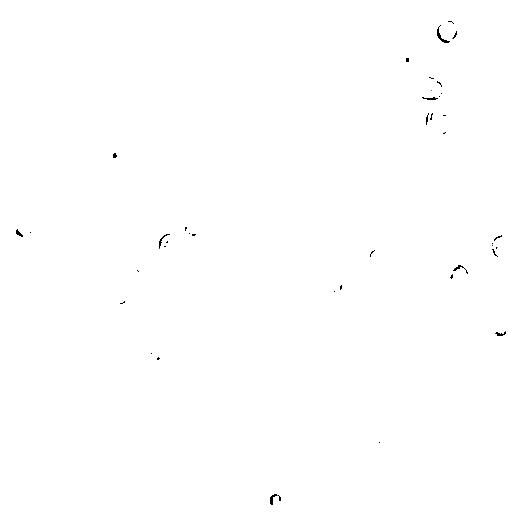micro-algae: (183, 75, 330, 213), (195, 96, 285, 187), (247, 56, 309, 119), (82, 255, 126, 301), (73, 131, 113, 174), (180, 473, 216, 508), (384, 279, 420, 313), (301, 473, 336, 507), (424, 105, 457, 140), (99, 138, 128, 171), (334, 292, 363, 322), (415, 74, 445, 102), (146, 247, 175, 275), (155, 231, 184, 258), (125, 353, 152, 378), (436, 19, 461, 44), (495, 268, 511, 307), (141, 345, 167, 368), (447, 263, 470, 289), (491, 232, 511, 261), (395, 45, 419, 69), (365, 348, 390, 371), (330, 347, 353, 370), (171, 94, 195, 114), (323, 273, 345, 294), (42, 7, 65, 27), (15, 449, 35, 472), (137, 447, 157, 468), (321, 229, 343, 248), (371, 440, 389, 461), (13, 220, 35, 237), (368, 249, 389, 266), (266, 491, 285, 508), (115, 288, 133, 305), (183, 218, 201, 235), (123, 265, 140, 282), (146, 322, 163, 339), (492, 318, 508, 336), (319, 247, 338, 262), (128, 223, 145, 239), (27, 0, 45, 11), (501, 483, 512, 501)
